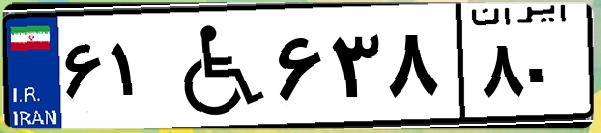0: (525, 38, 570, 115)
1: (110, 28, 158, 98)
3: (330, 28, 385, 110)
6: (270, 28, 330, 110), (57, 26, 110, 100)
8: (385, 28, 445, 110), (475, 38, 525, 113)
ژ (معلولین و جانبازان): (158, 12, 270, 120)
